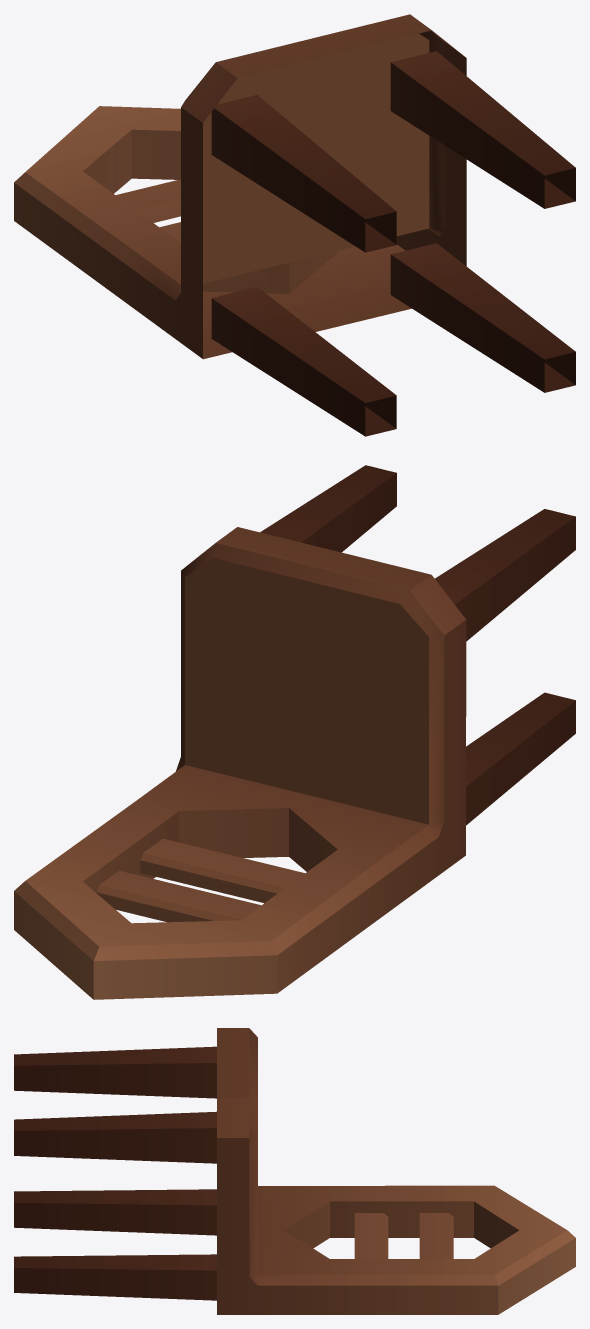
Rendered from Chair 01.FBX.
3 views of the same model, one above another, from view 1: azimuth 30°, elevation 25°; view 2: azimuth 150°, elevation 25°; view 3: azimuth 270°, elevation 25° (orthographic). The views are drawn at different scales.
Visible parts, largest first — view 1: Chair 01; view 2: Chair 01; view 3: Chair 01.
Boxes of the visible parts, x1,y1,x2,y2 form: Chair 01: [14, 14, 575, 436]; Chair 01: [14, 465, 575, 999]; Chair 01: [14, 1028, 575, 1314].
Size of the model in its own units: 43.3 by 42.92 by 107.
